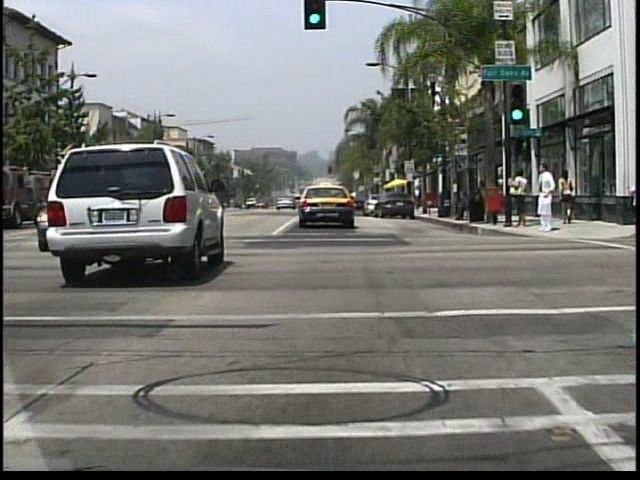person: (536, 163, 557, 233), (511, 167, 529, 232), (557, 169, 574, 226), (454, 188, 474, 220), (476, 179, 488, 219), (413, 186, 423, 213)
